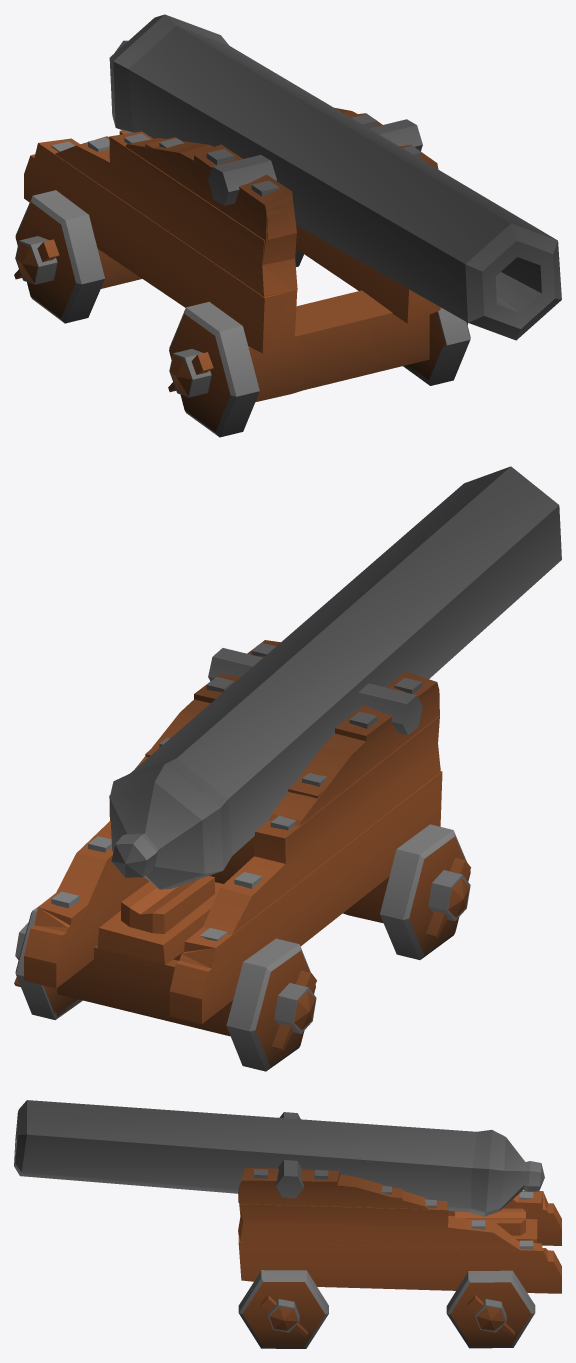
Rendered from Cannon 01 low.fbx.
The picture shows the model from 3 angles, top to bottom: view 1: azimuth 30°, elevation 25°; view 2: azimuth 150°, elevation 25°; view 3: azimuth 270°, elevation 25°; orthographic projection. The views are drawn at different scales.
Visible parts, largest first — view 1: Cannon 01 low low, Cannon 01 low high, Cannon 01 low; view 2: Cannon 01 low high, Cannon 01 low low, Cannon 01 low; view 3: Cannon 01 low low, Cannon 01 low high, Cannon 01 low.
Part boxes in pixels (x1,y1,x2,y2): Cannon 01 low low: (55, 26, 556, 353); Cannon 01 low high: (14, 14, 561, 437); Cannon 01 low: (16, 111, 445, 395); Cannon 01 low high: (14, 640, 470, 1071); Cannon 01 low low: (55, 466, 561, 1009); Cannon 01 low: (34, 689, 469, 1036); Cannon 01 low low: (15, 1100, 561, 1250); Cannon 01 low high: (14, 1100, 561, 1348); Cannon 01 low: (238, 1137, 561, 1330).
Bounding box in the file's own units: 0.9886 × 1.03 × 2.43.
1 material, 1 textured.
